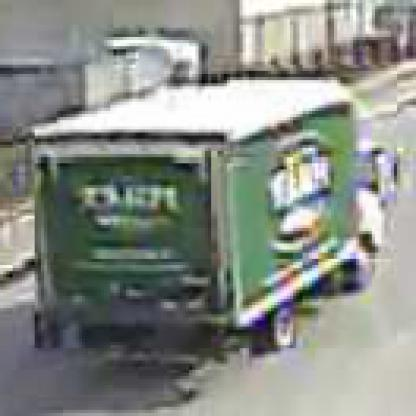truck: (33, 66, 398, 352)
